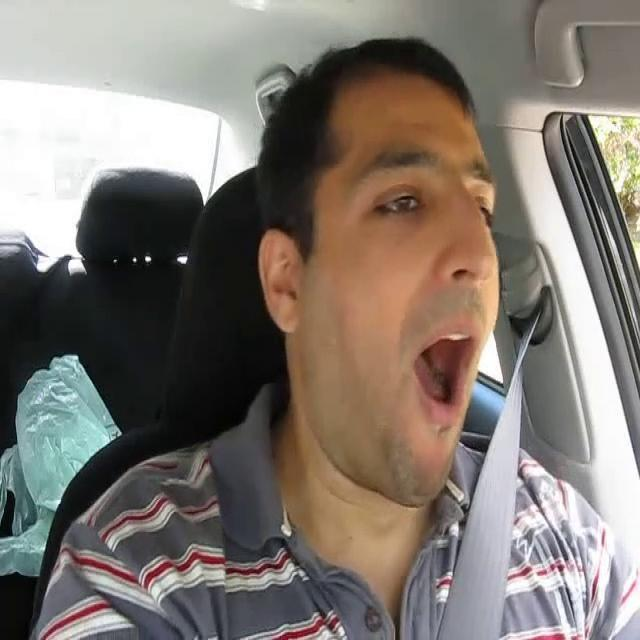open-mouth: (409, 310, 482, 432)
